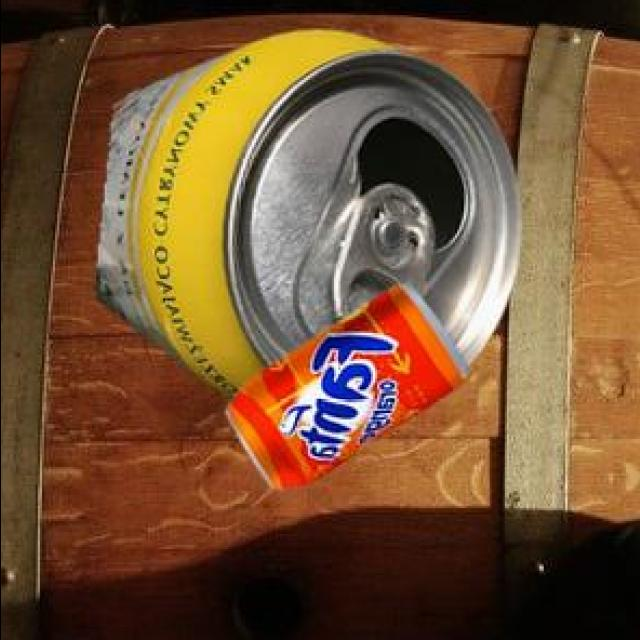logam: (96, 34, 522, 403), (230, 289, 470, 492)
